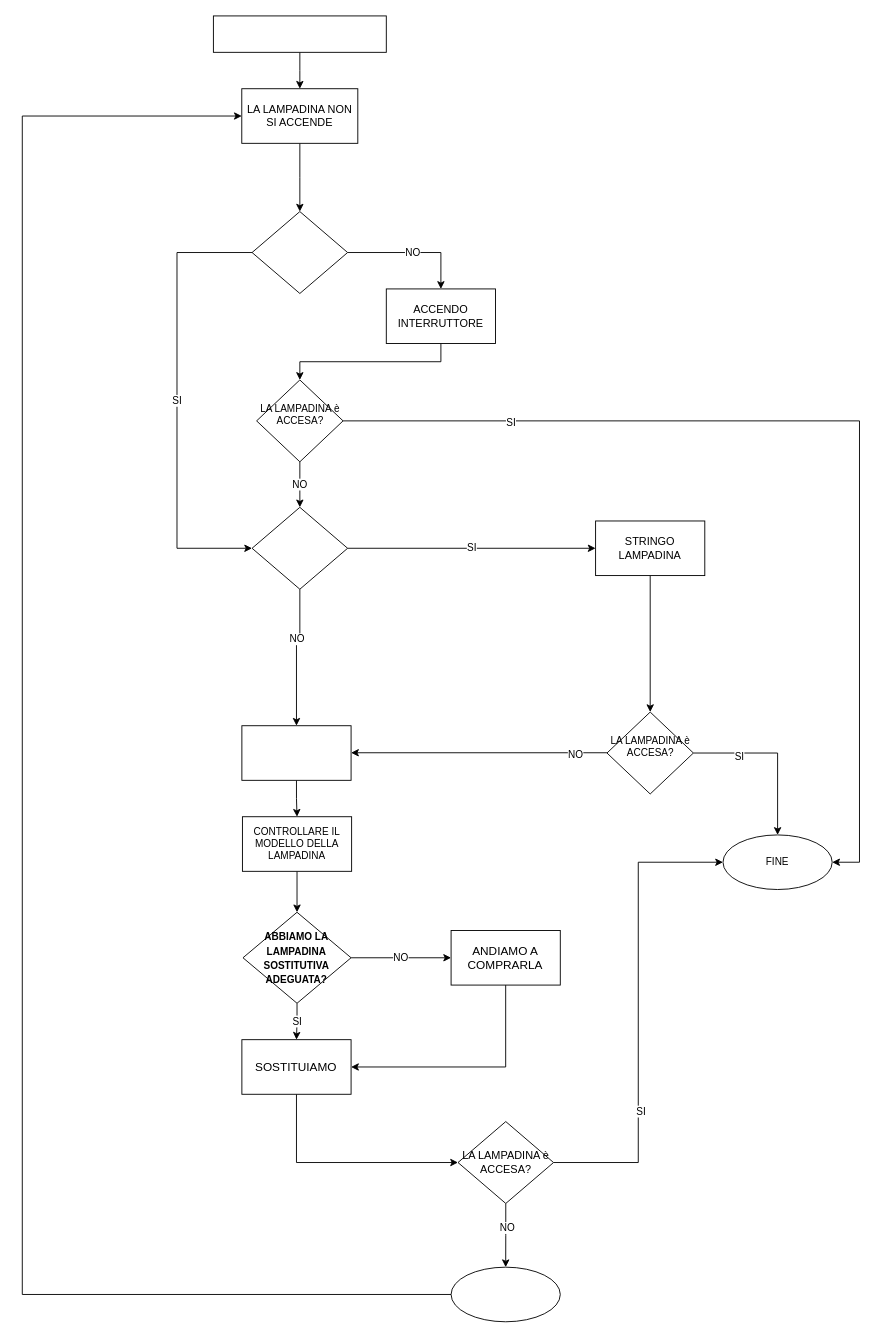
This 883x1338 diagram has some shape labels left out. The shapes that lost their labels are listed below. From the top down, each one's centre as x and y in pixels, then its label:
the point at 299,33: CAMBIARE LAMPADINA
the point at 299,252: L'INTERRUTTORE è ACCESO?
the point at 299,547: LA LAMPADINA è ALLENTATA?
the point at 296,752: RIMUOVERE LA LAMPADINA FULMINATA
the point at 505,1294: RETURN MAIN
